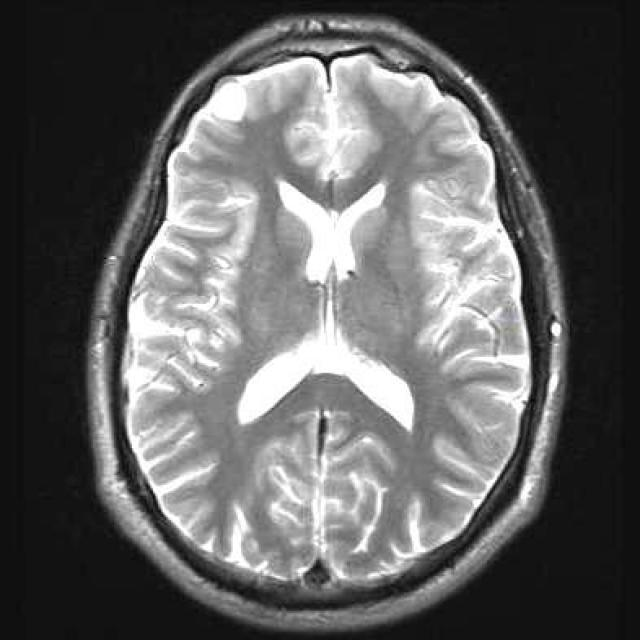No_Tumor: (88, 14, 566, 631)
